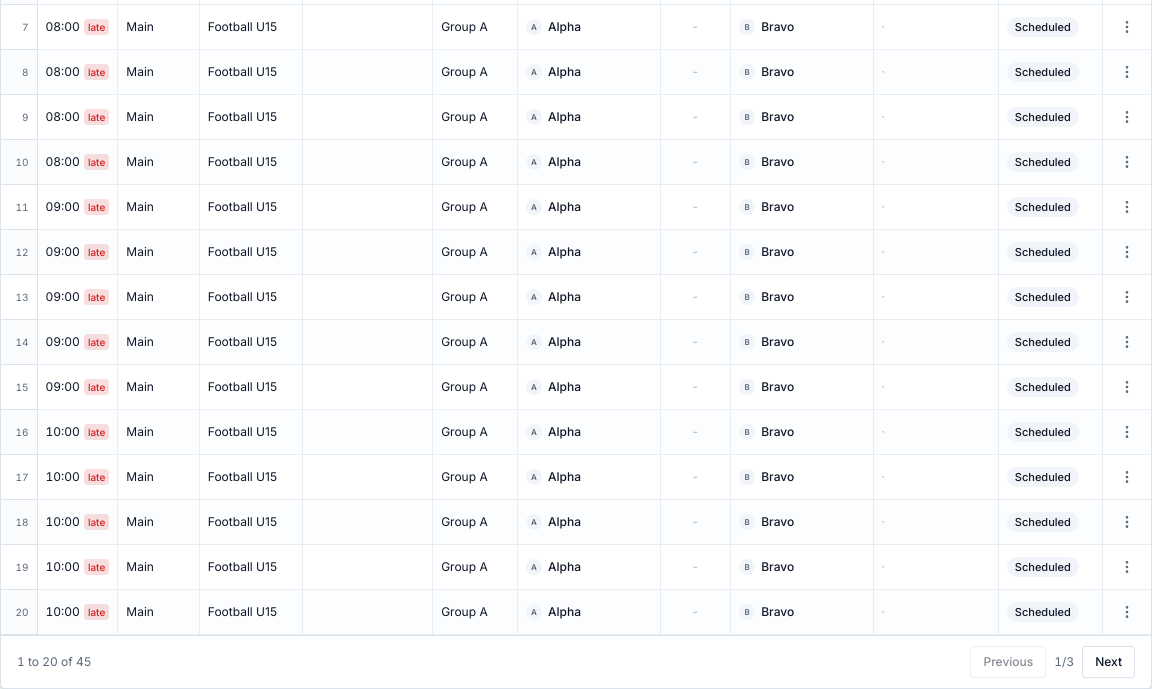
MatchesBoardPage pagination › slices long fixtures into 20-row pages with prev and next
The width and height of the screenshot is (1152, 689).
(page scrolled)
Expected: the text "1 to 20 of 45" is shown, [17,654,92,670]
Expected: the button with test id "board-prev" is disabled, [970,646,1046,678]
Click the button with test id "board-next". click: (1109, 662)
box: [1082,646,1135,678]
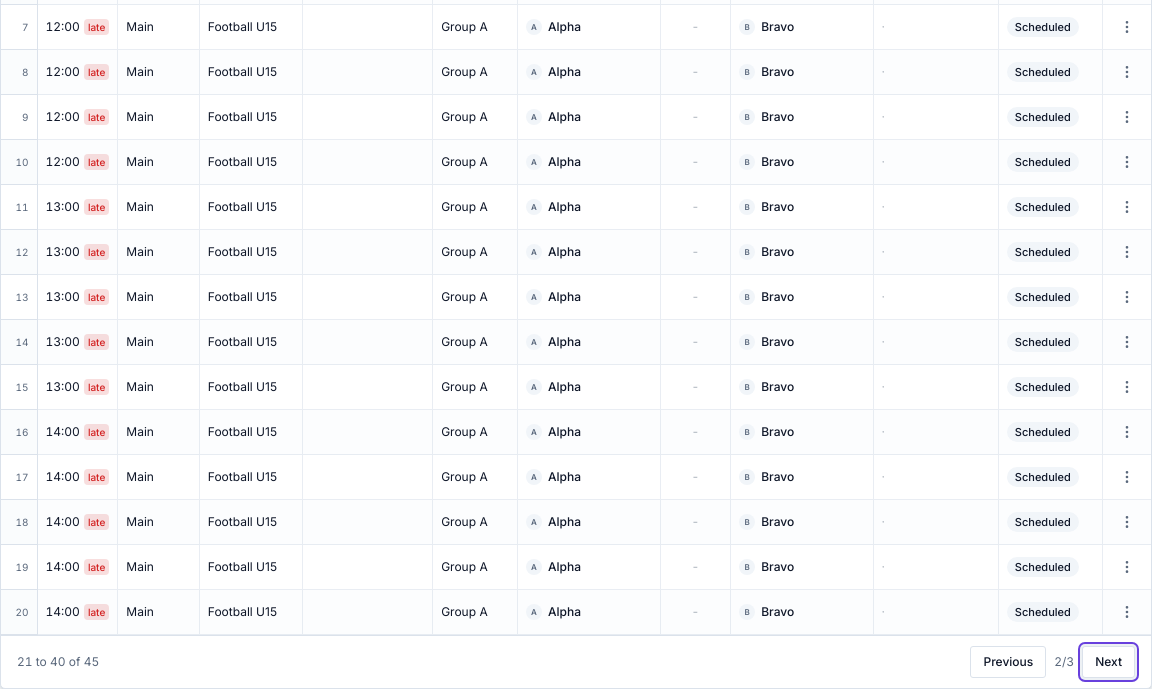
Now the text "21 to 40 of 45" is shown, box [17,654,99,670]
Click the button with test id "board-next". click: (1109, 662)
box: [1082,646,1135,678]
(page scrolled)
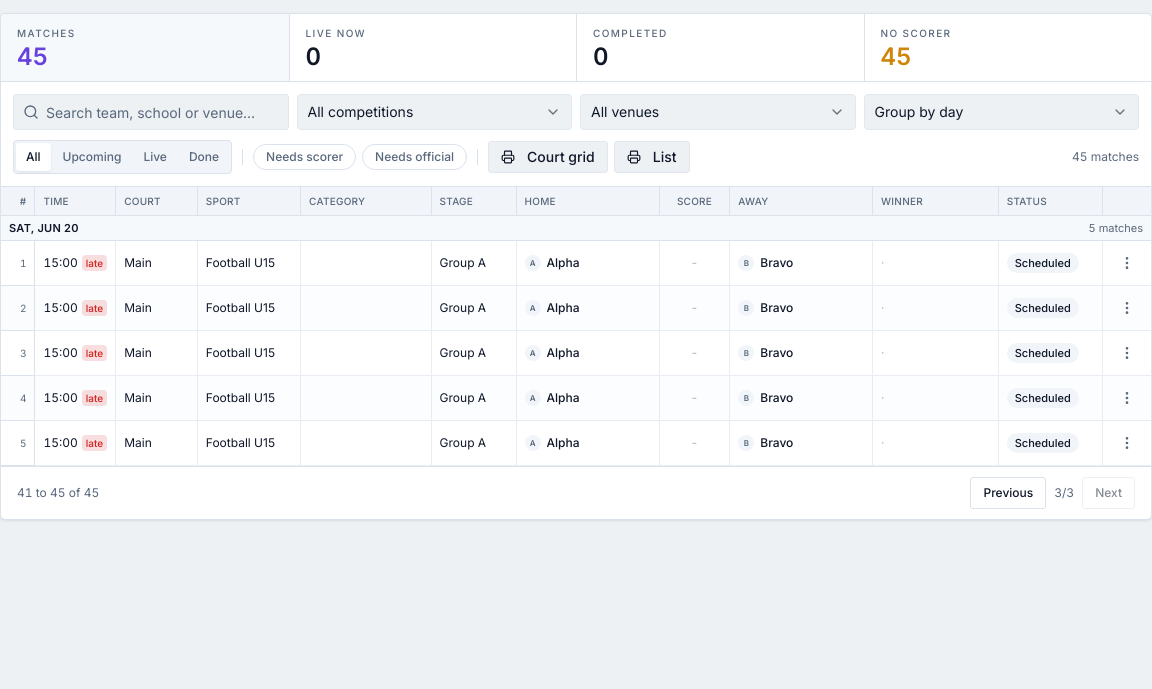
Now the button with test id "board-next" is disabled, box [1082,477,1135,509]
# Changing a filter snaps back to page one.
Click the button with test id "board-status-upcoming". click: (92, 157)
box: [53,143,131,171]
(page scrolled)
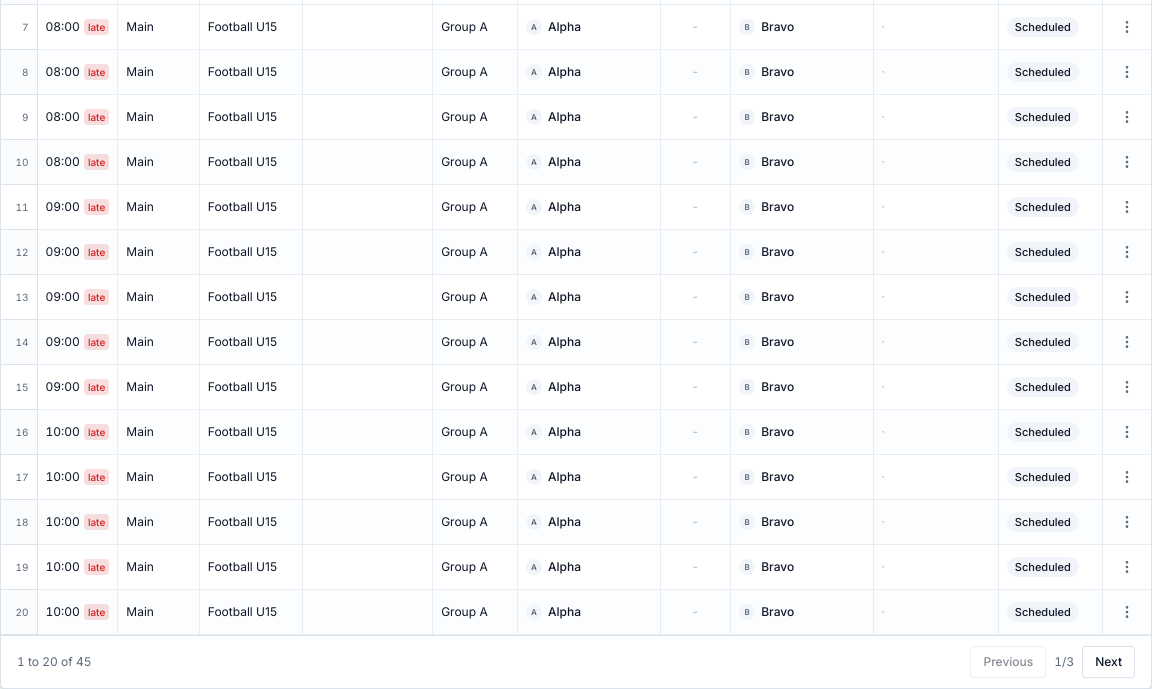
Now the text "1 to 20 of 45" is shown, box [17,654,92,670]
